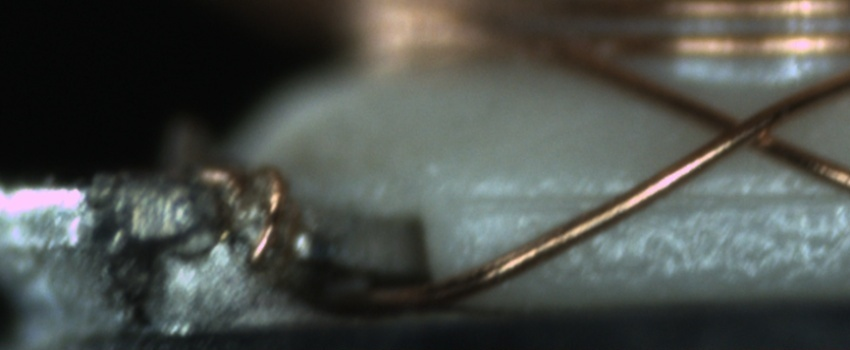CL: (694, 97, 793, 161)
DL: (471, 171, 849, 236)
TE: (177, 157, 287, 276)
